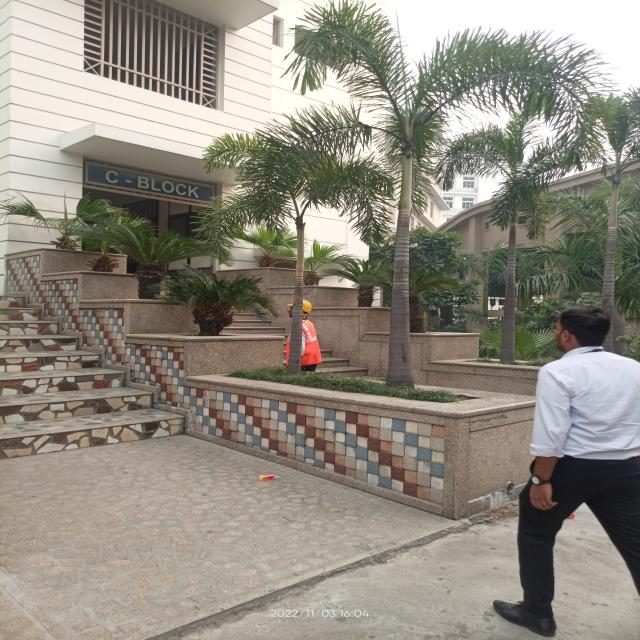unsafe: (489, 304, 637, 640)
